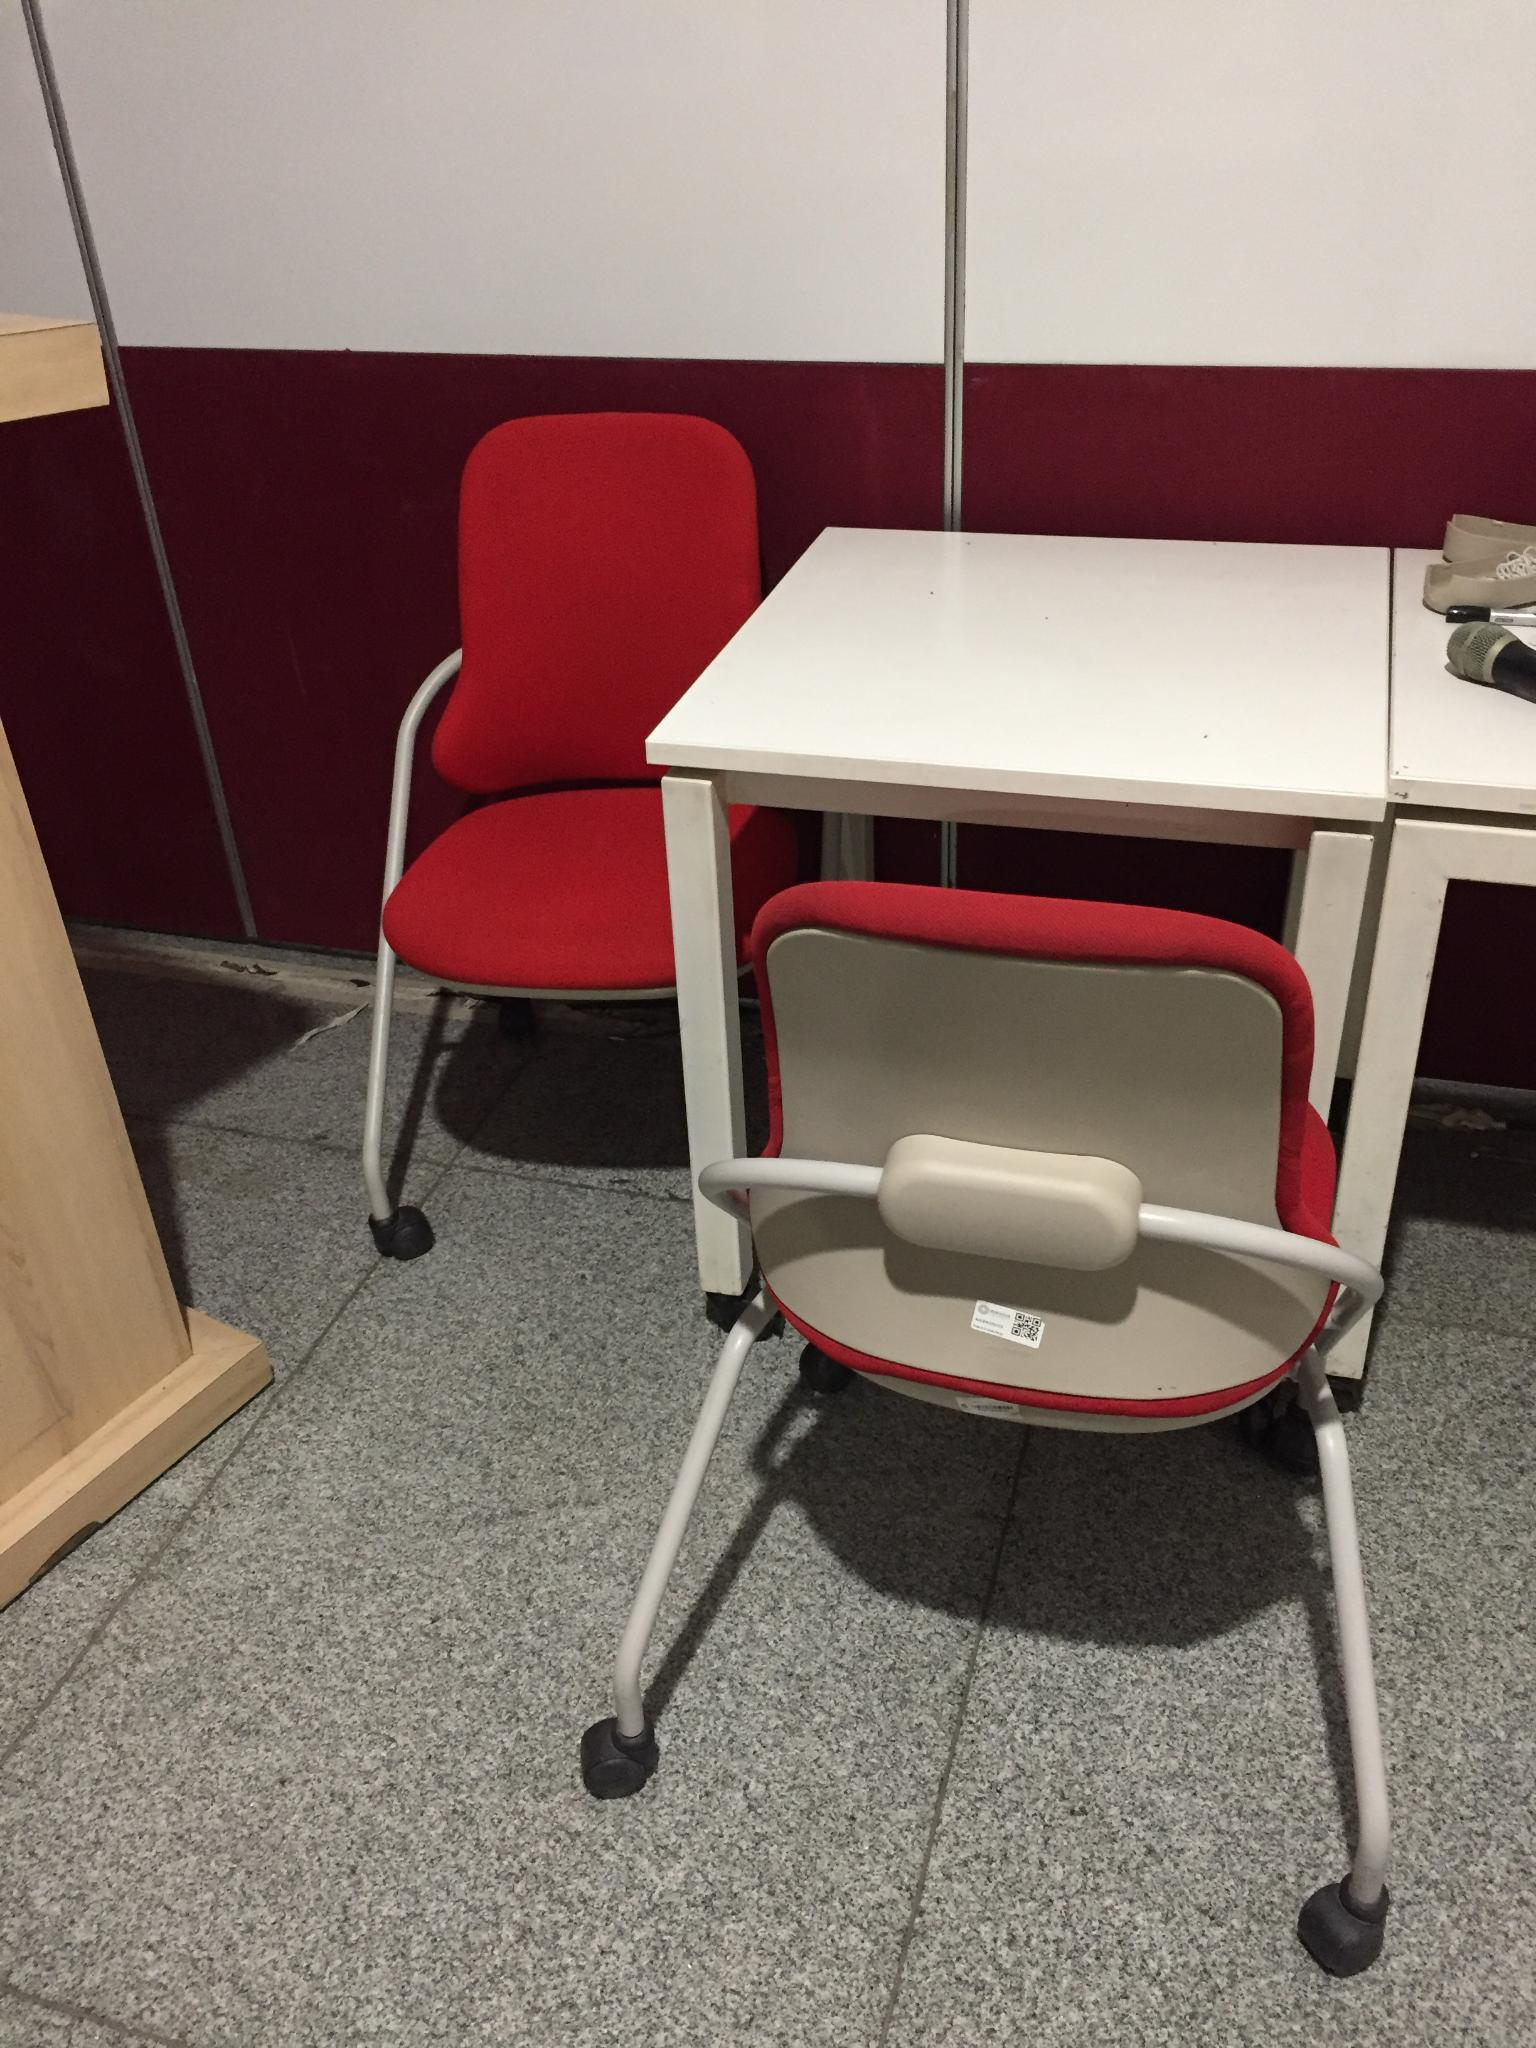chair: (579, 876, 1394, 1977), (361, 410, 803, 1263)
